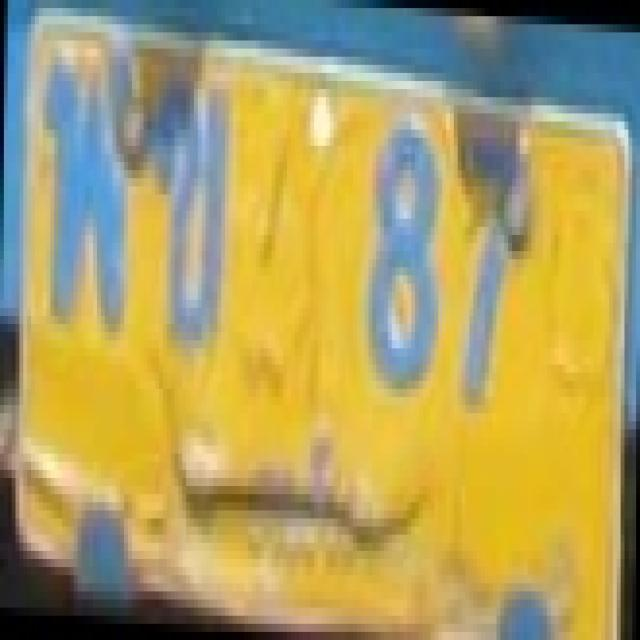7: (448, 78, 556, 461)
8: (356, 94, 452, 436)
A02: (144, 44, 241, 387)
A31: (28, 7, 143, 376)
